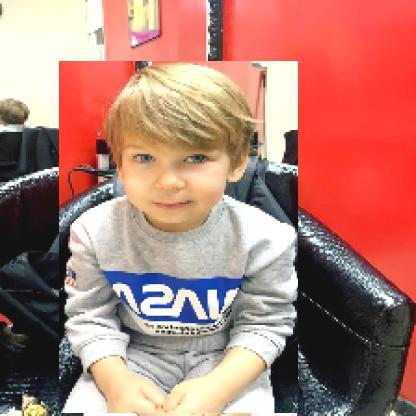child: (60, 62, 300, 415)
